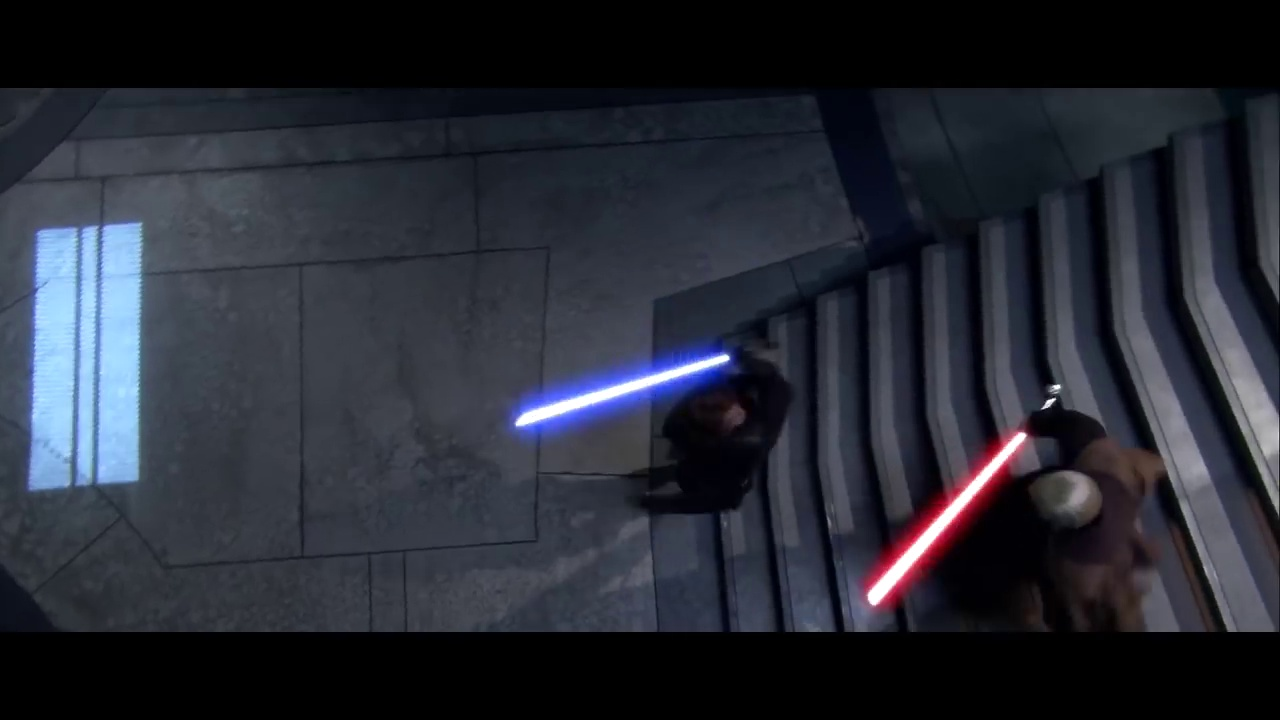lightsaber: (857, 382, 1067, 608), (507, 345, 758, 432)
